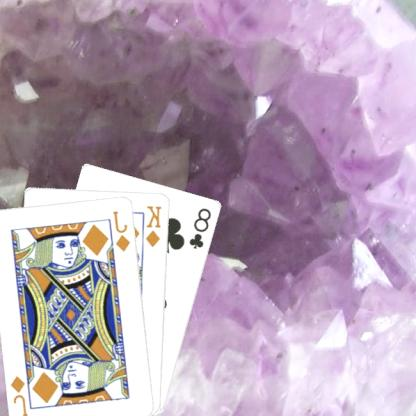8C: (188, 205, 215, 250)
JD: (112, 208, 134, 253), (10, 372, 31, 416)
KD: (145, 202, 165, 249)
